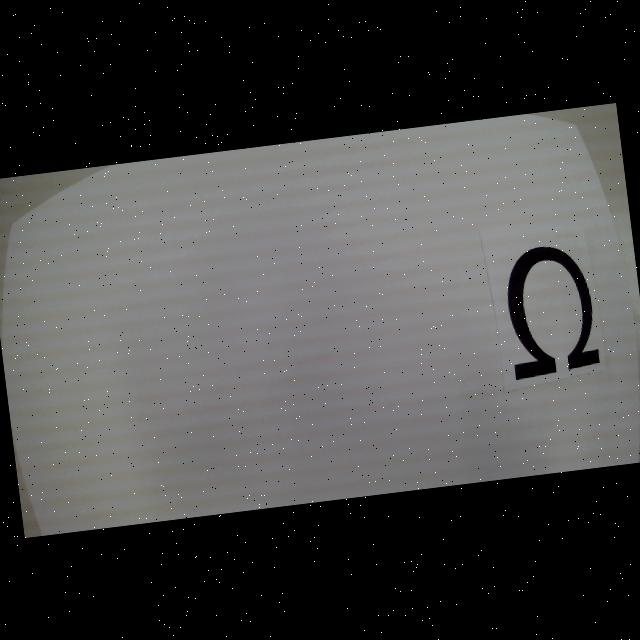OMEGA: (499, 240, 602, 380)
